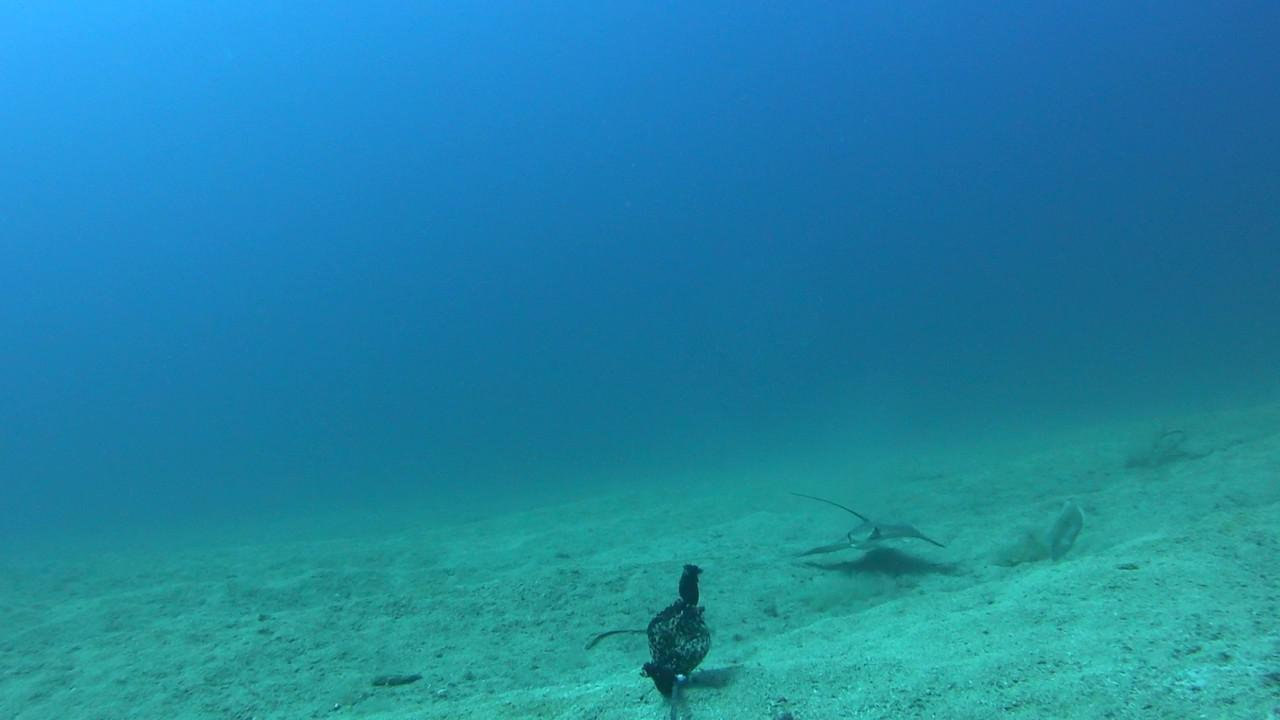myliobatis: (774, 468, 958, 570)
raor: (1050, 494, 1084, 566)
